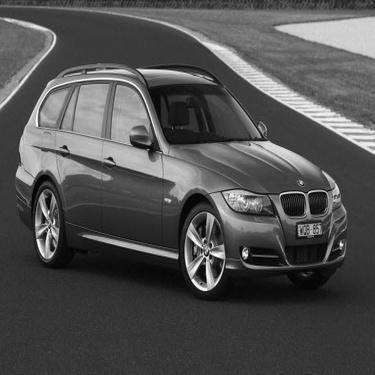car: (9, 54, 356, 304)
